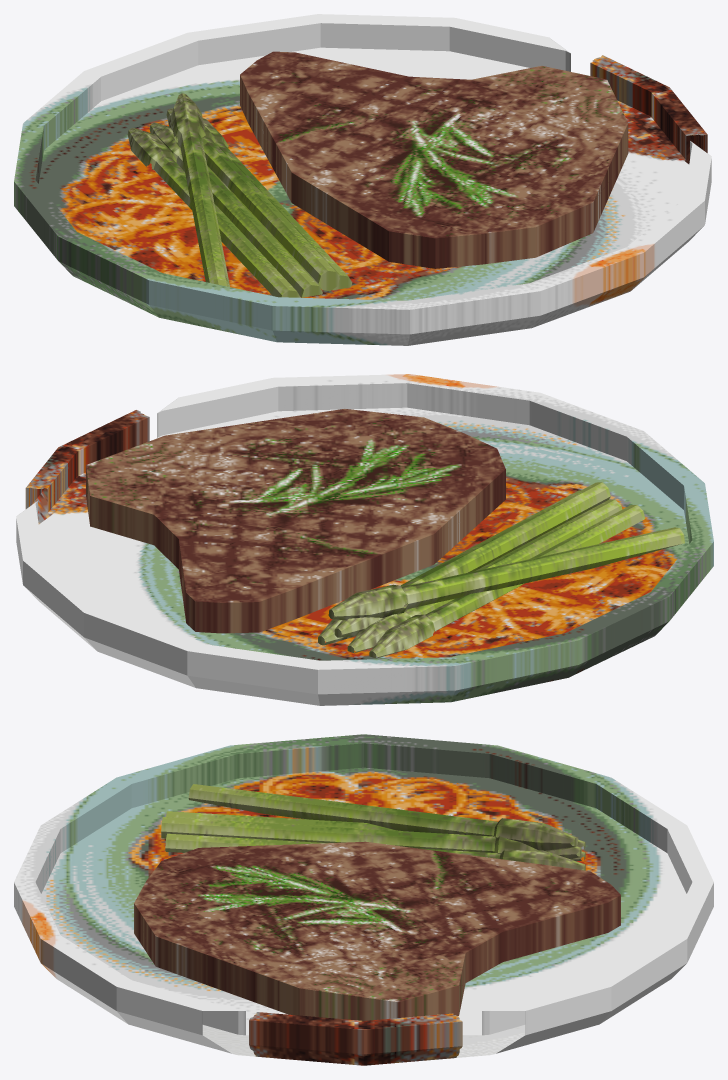
File: SteakDish.fbx
The picture shows the model from 3 angles, top to bottom: view 1: azimuth 30°, elevation 25°; view 2: azimuth 150°, elevation 25°; view 3: azimuth 270°, elevation 25°; orthographic projection.
Parts seen in each view (by area): view 1: Plate, Steak, Asparagus; view 2: Plate, Steak, Asparagus; view 3: Plate, Steak, Asparagus.
Boxes of the visible parts, left/top/right/bottom form: Plate: left=14, top=14, right=711, bottom=345; Steak: left=240, top=51, right=628, bottom=268; Asparagus: left=127, top=93, right=352, bottom=297; Plate: left=16, top=374, right=713, bottom=705; Steak: left=86, top=408, right=505, bottom=633; Asparagus: left=318, top=482, right=684, bottom=658; Plate: left=14, top=734, right=713, bottom=1065; Steak: left=134, top=841, right=620, bottom=1020; Asparagus: left=161, top=784, right=585, bottom=870.
Bounding box in the file's own units: 200 × 18.48 × 200.
